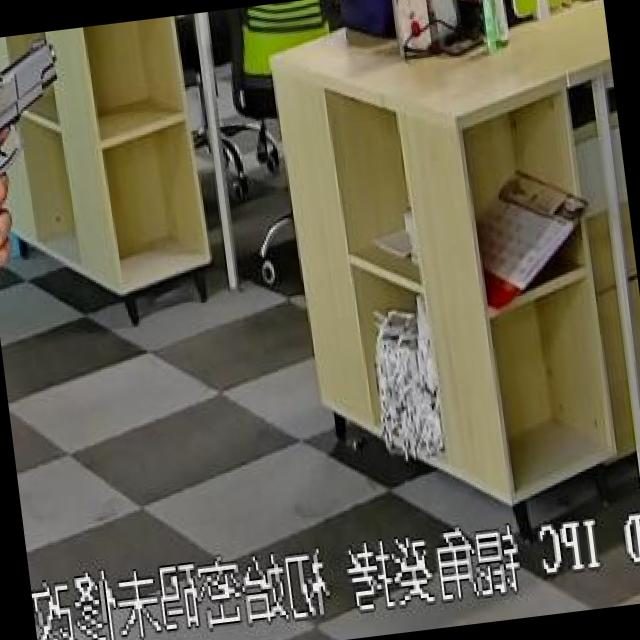Guns: (0, 26, 113, 289)
